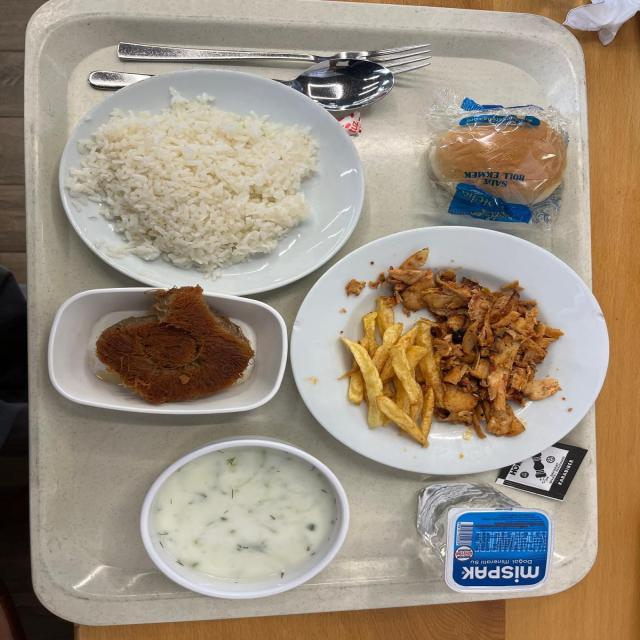ana_yemek: (289, 230, 587, 466), (59, 70, 358, 282)
corba: (138, 438, 345, 598)
yan_yemek: (46, 288, 284, 414)
